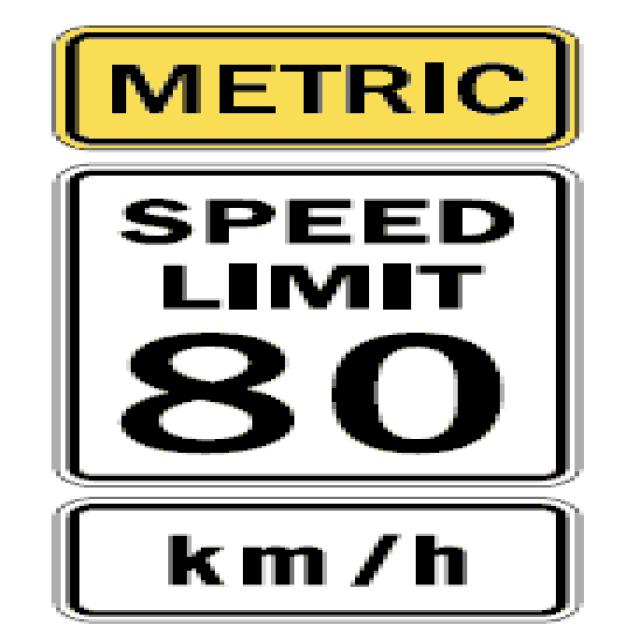speedLimit80: (47, 154, 593, 488)
